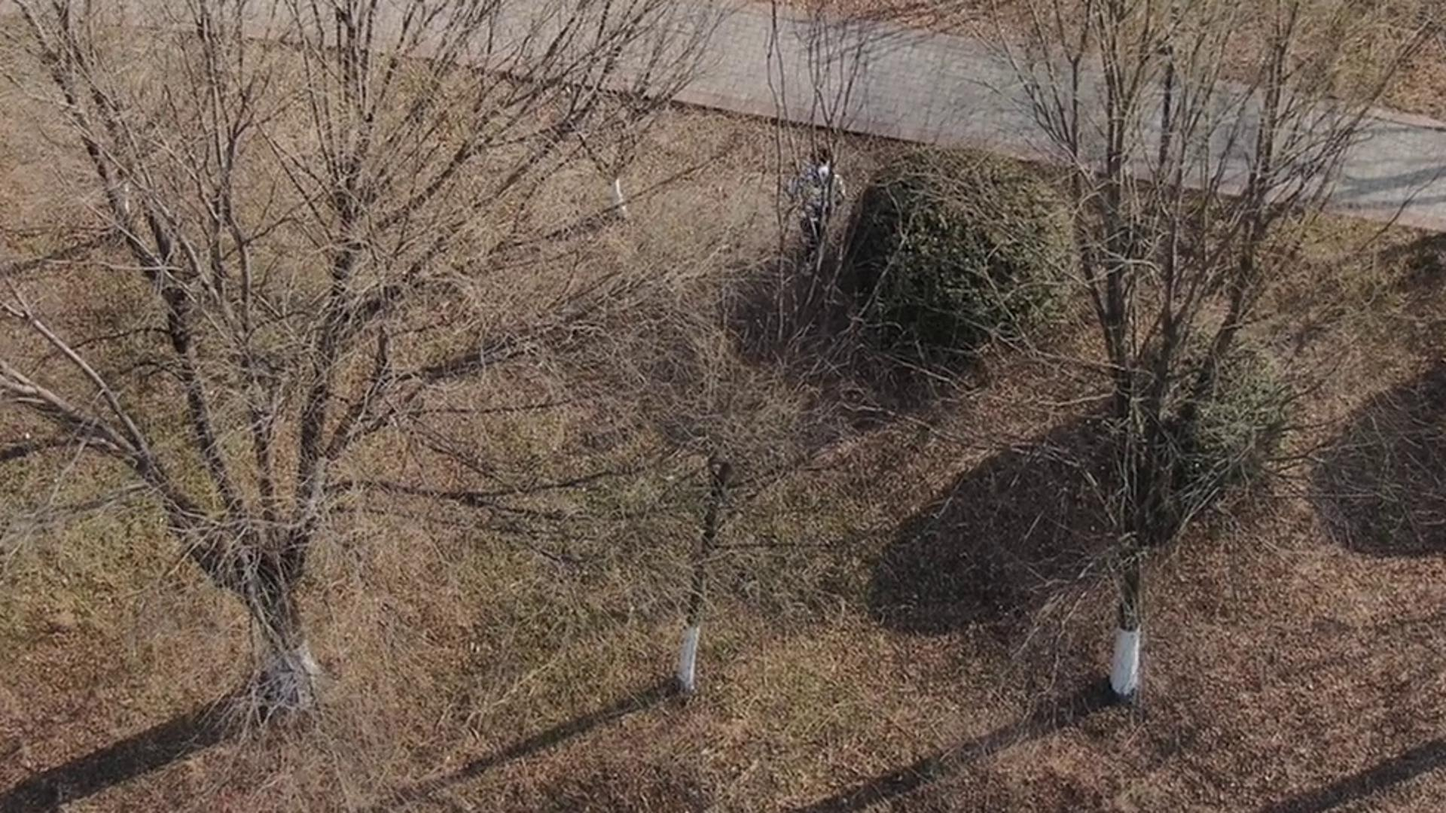human: (795, 157, 831, 290)
